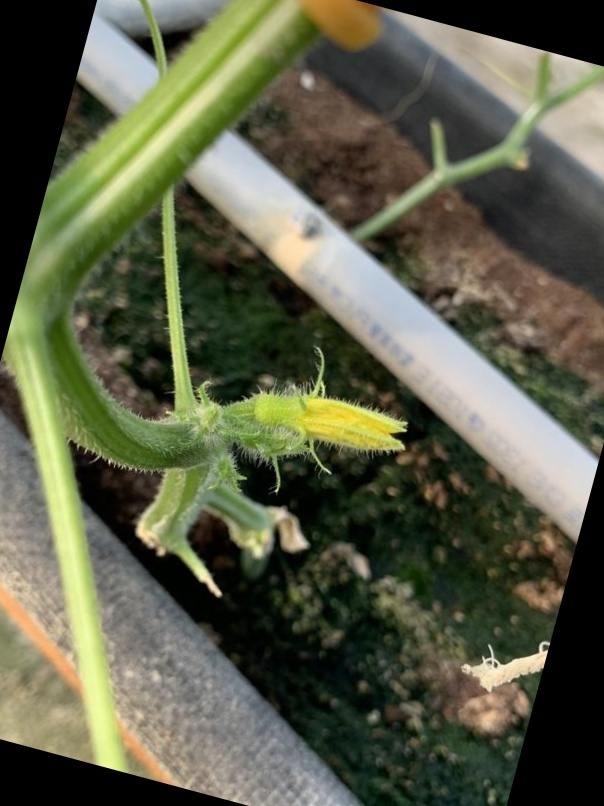bud: (226, 386, 411, 476)
